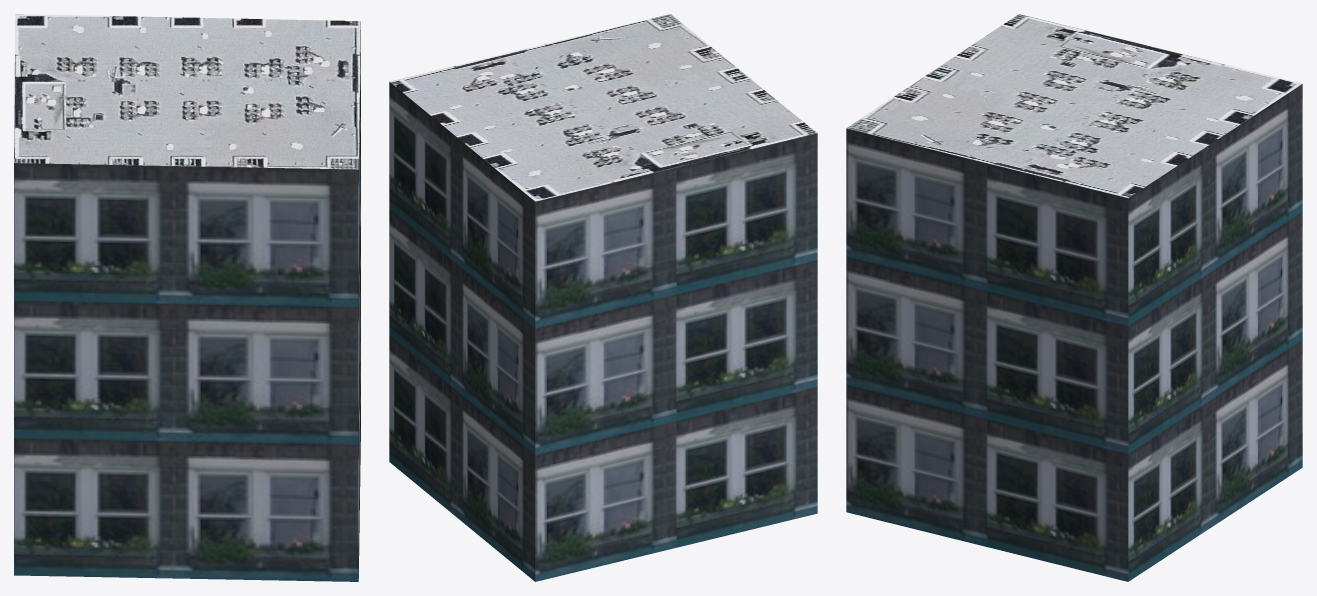
File: ResTex__3094.fbx
The picture shows the model from 3 angles, left to right: view 1: azimuth 30°, elevation 25°; view 2: azimuth 150°, elevation 25°; view 3: azimuth 270°, elevation 25°; orthographic projection. The views are drawn at different scales.
Parts seen in each view (by area): view 1: CityEngineMaterial_11_m, CityEngineMaterial_m; view 2: CityEngineMaterial_11_m, CityEngineMaterial_m; view 3: CityEngineMaterial_11_m, CityEngineMaterial_m.
Part boxes in pixels (box(x1,y1,x2,y2)): CityEngineMaterial_11_m: box(14, 29, 360, 581); CityEngineMaterial_m: box(14, 14, 360, 169); CityEngineMaterial_11_m: box(389, 82, 817, 581); CityEngineMaterial_m: box(390, 14, 816, 201); CityEngineMaterial_11_m: box(846, 84, 1302, 581); CityEngineMaterial_m: box(846, 14, 1302, 197).
Bounding box in the file's own units: 9.26 × 9 × 9.7.
2 materials, 2 textured.
